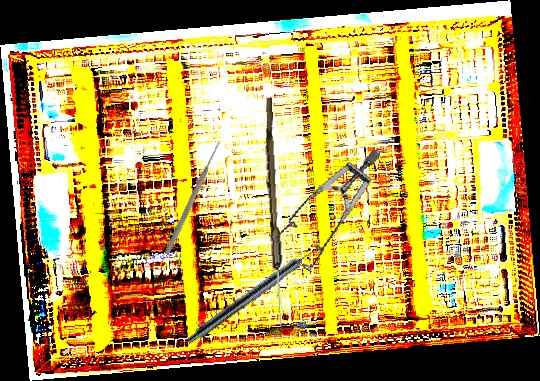Handpiece: (184, 240, 326, 349)
Pusher: (163, 140, 223, 256)
Speculum: (254, 148, 409, 282)
Surgical Spoon: (260, 97, 288, 328)
